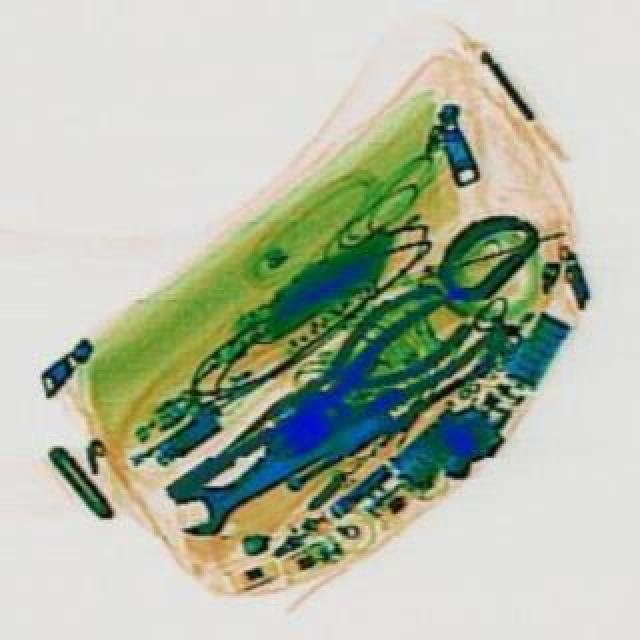scissors: (160, 370, 424, 546)
wrench: (226, 272, 474, 462), (254, 284, 490, 470)
